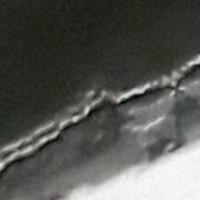crack: (0, 44, 199, 199)
